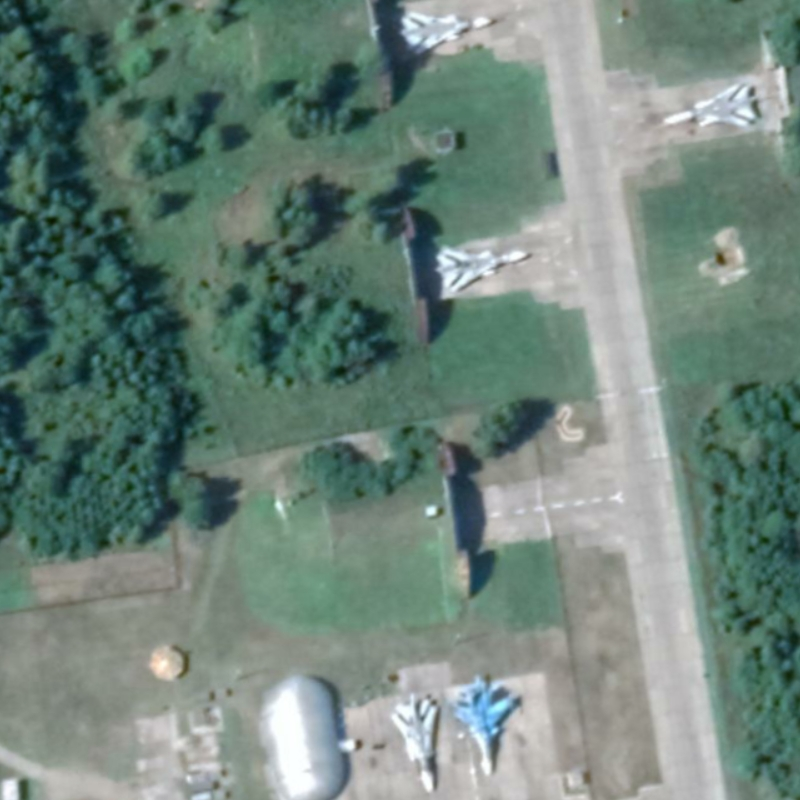A19: (445, 674, 524, 778)
A20: (388, 692, 440, 796), (433, 245, 529, 294), (662, 81, 760, 129), (397, 9, 493, 57)
